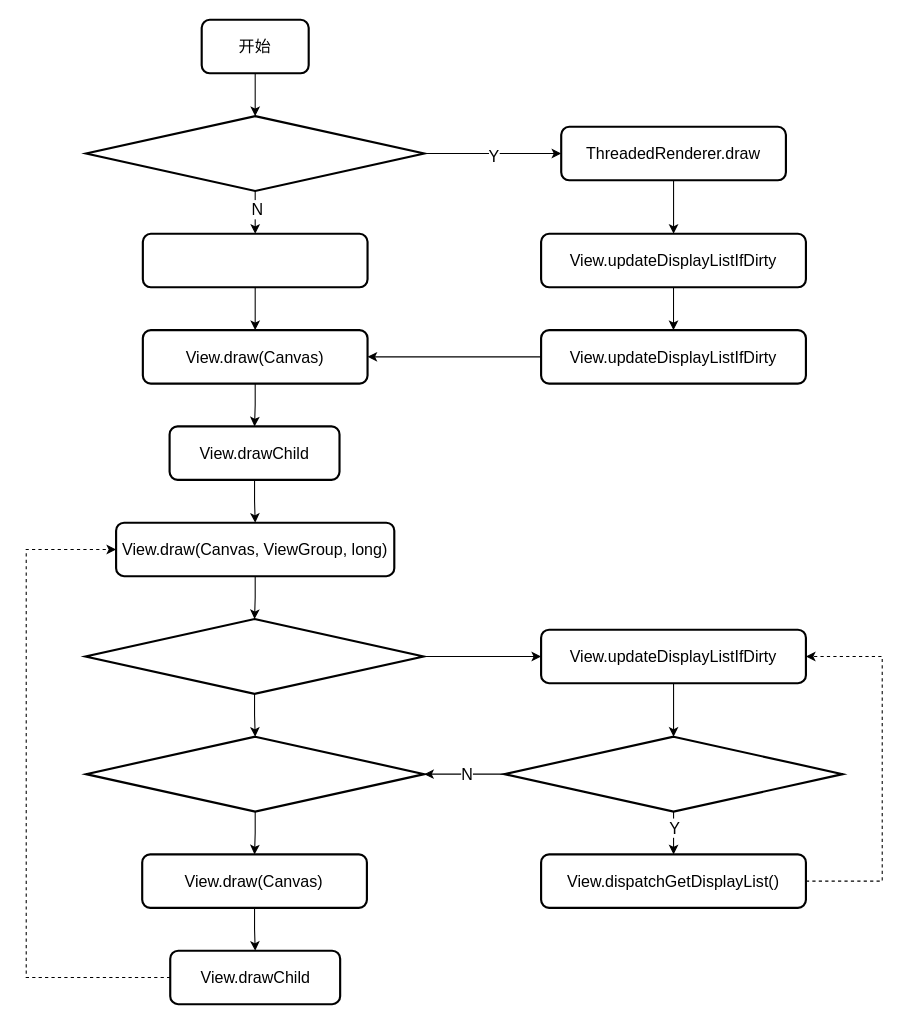
Image size: 910x1023. Some labels were removed from this diagram. Each missing label, with the centre of its shape:
"Canvas.isHardwareAcceleted()" goes at [254,655].
"PFLAG_SKIP_DRAW?" goes at [255,773].
"RenderNode.hasDisplayList()" goes at [673,773].
"ThreadedRenderer.isEnabled()?" goes at [255,153].
"ViewRootImpl.drawSoftware" goes at [254,260].
